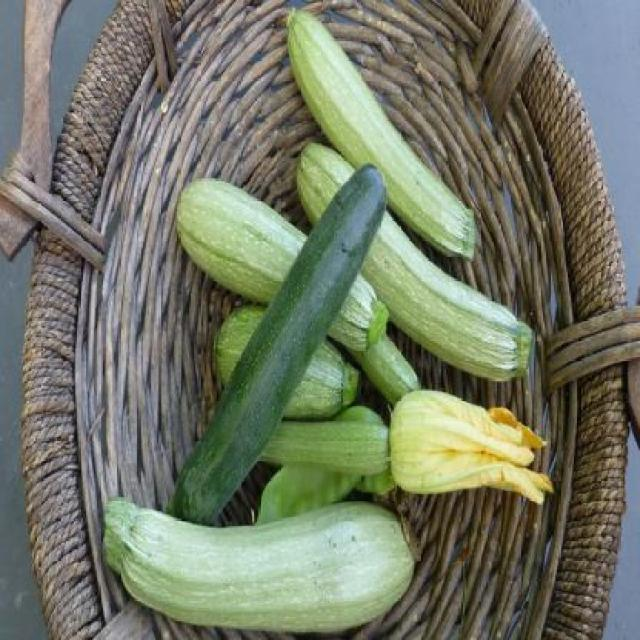Cucumber: (169, 185, 380, 513)
